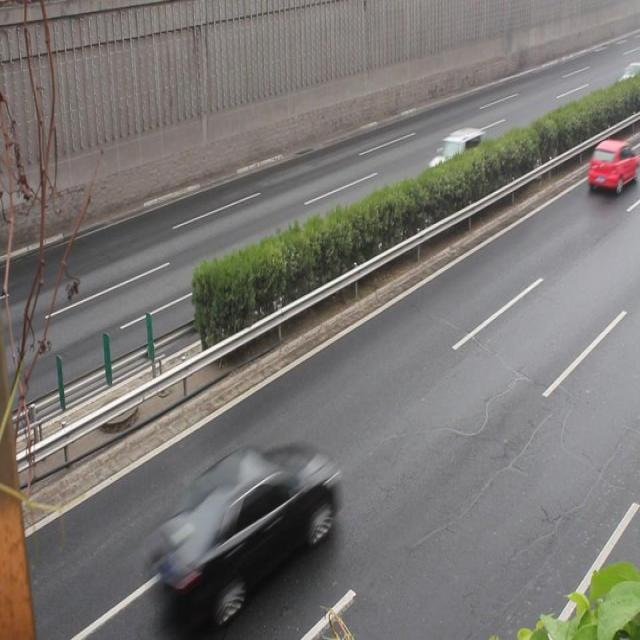car: (154, 445, 336, 605), (426, 127, 485, 189), (586, 137, 640, 194)
